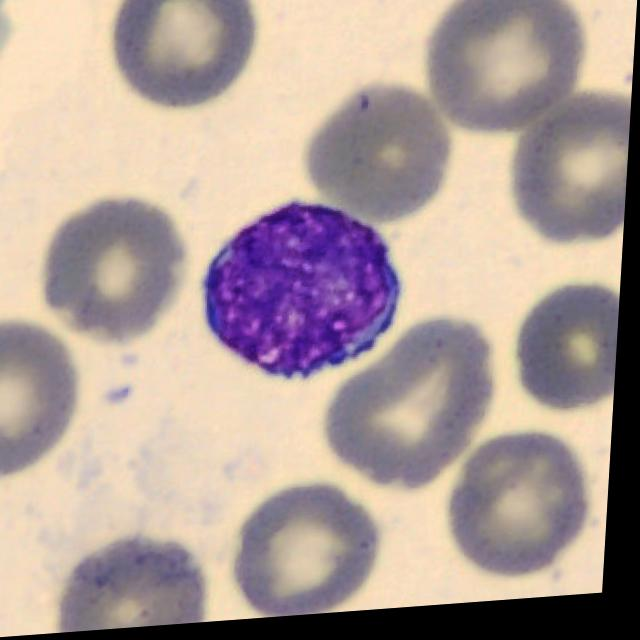Linfocito: (207, 207, 405, 385)
